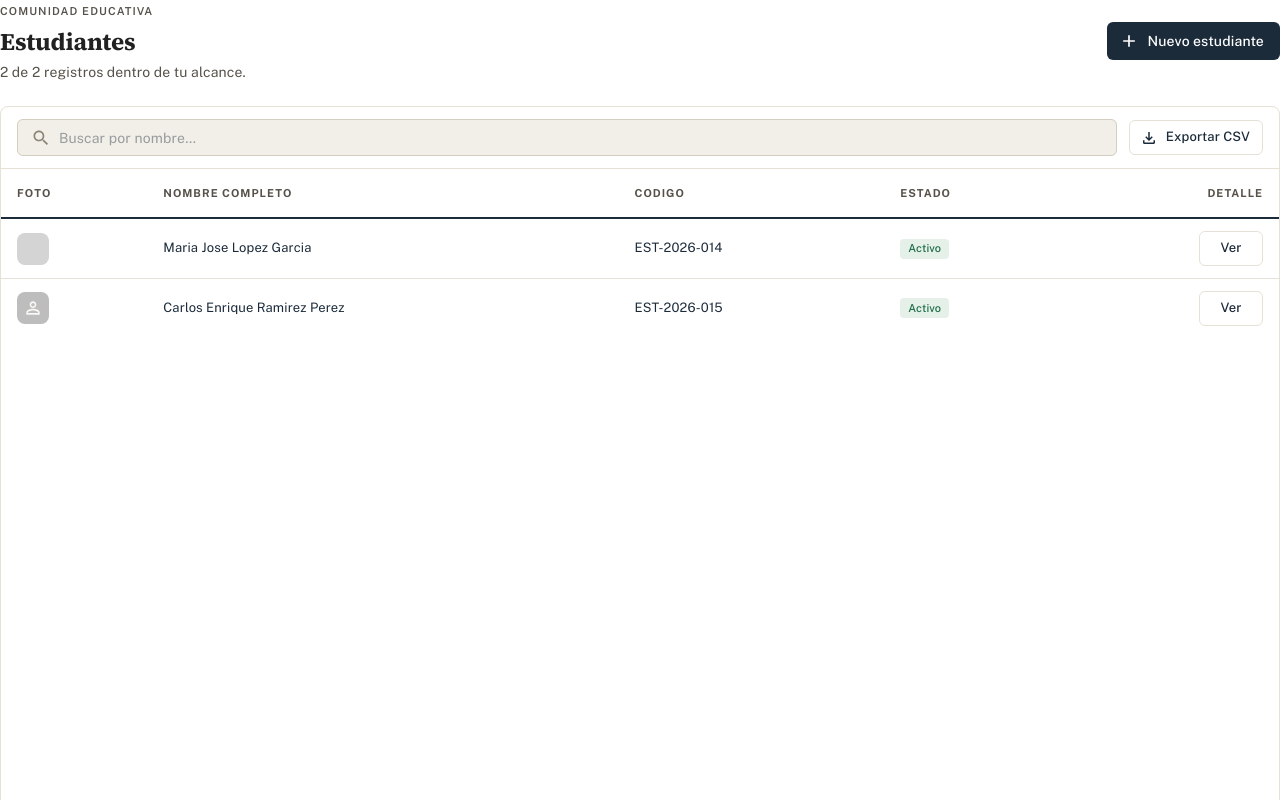
Test: AlumnosPage › opens the detail panel for a row
The image size is (1280, 800).
Expected: the text "Maria Jose Lopez Garcia" is shown, [147,219,619,279]
Click the button with aria-label "Ver detalle". click: (1231, 249)
box: [1199,231,1263,266]
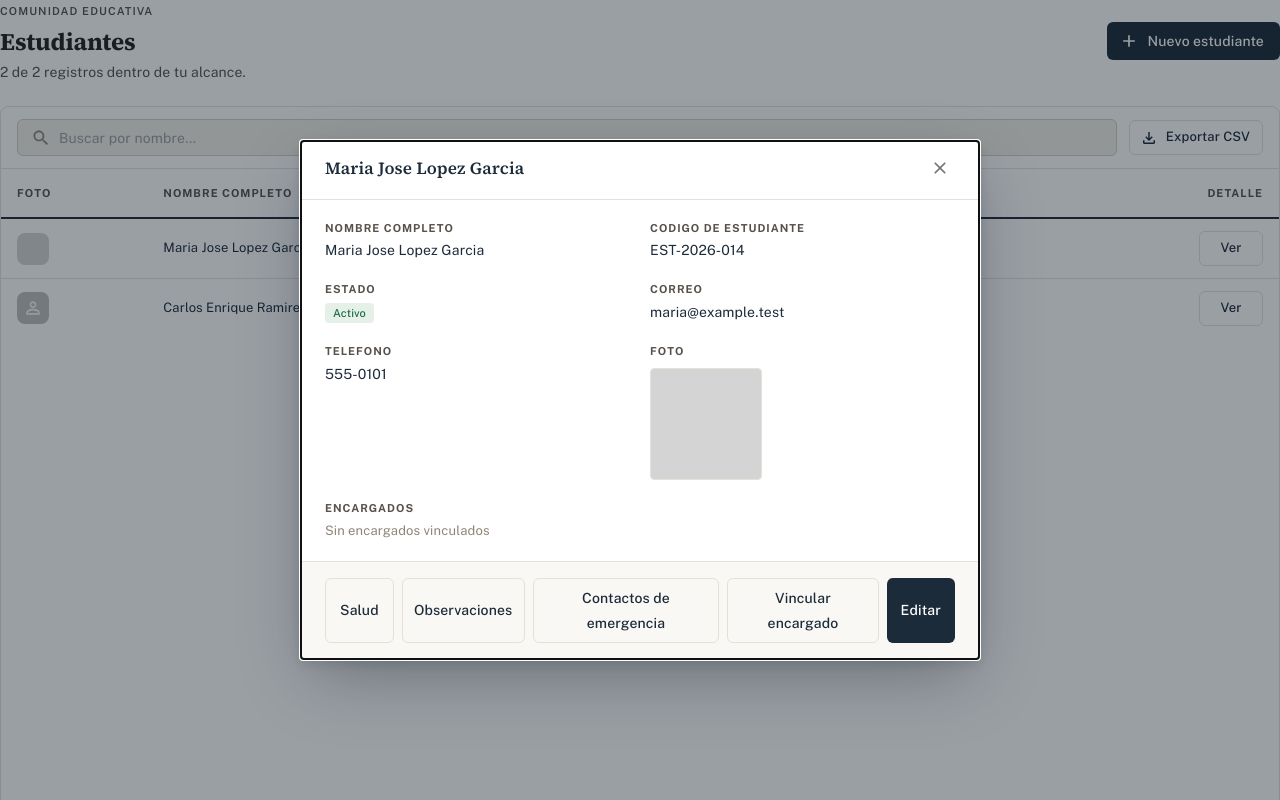
Expected: the heading "Maria Jose Lopez Garcia" is shown, [325,157,524,180]
Expected: the text "maria@example.test" is shown, [650,304,785,320]
